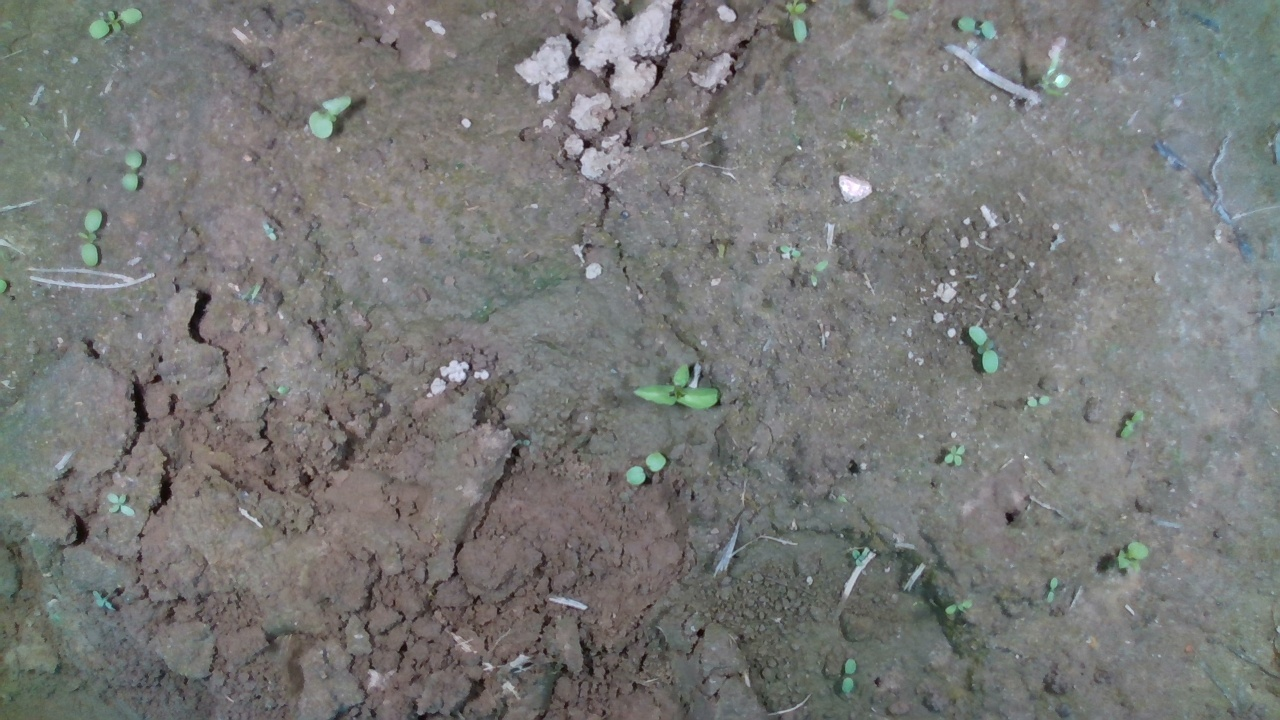weed: (630, 361, 722, 409), (306, 93, 352, 140), (72, 206, 106, 267), (86, 7, 144, 41), (967, 323, 999, 374), (625, 451, 667, 486), (1115, 540, 1149, 578), (954, 15, 998, 39), (119, 150, 143, 194), (1117, 408, 1145, 440), (841, 656, 857, 694), (943, 444, 965, 467), (945, 599, 973, 615), (779, 243, 802, 260), (1024, 394, 1051, 408), (1046, 576, 1058, 603)
